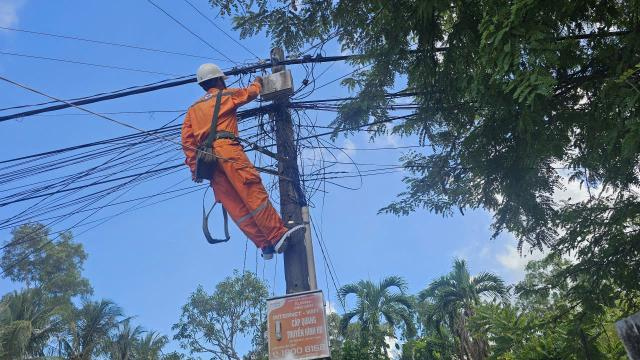harness: (194, 126, 262, 148)
helmet: (190, 59, 228, 86)
shoes: (267, 216, 307, 251), (258, 239, 278, 262)
